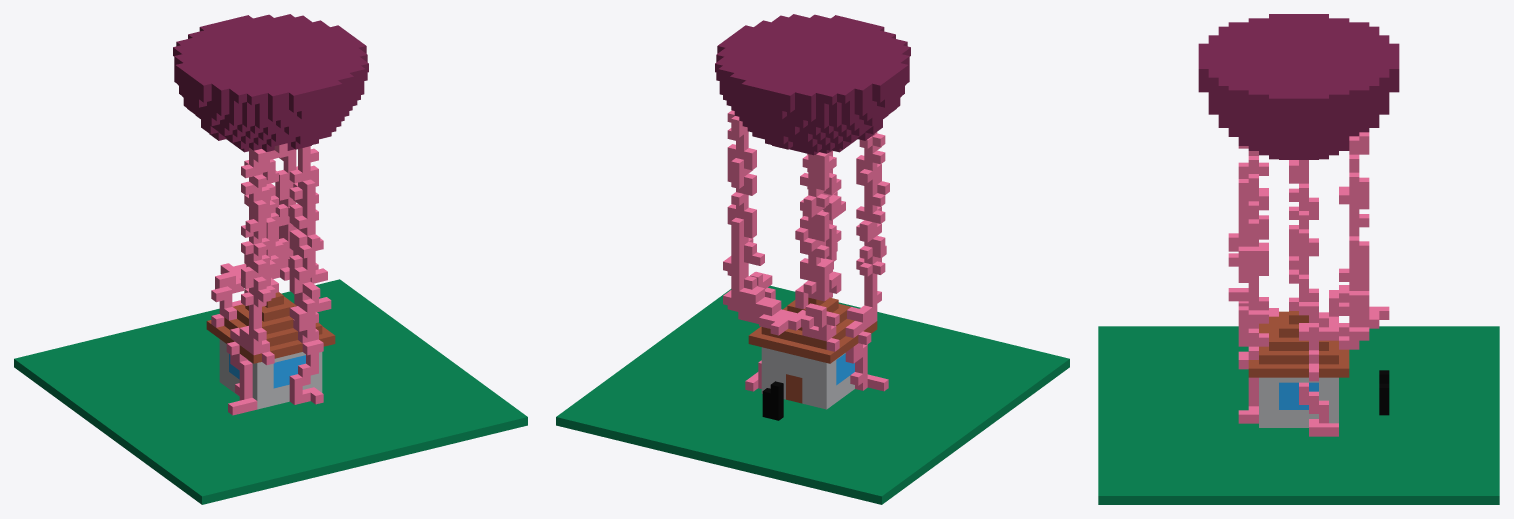
The model's file is OctoHouse.obj.
3 renders of one model, left to right at view 1: azimuth 30°, elevation 25°; view 2: azimuth 150°, elevation 25°; view 3: azimuth 270°, elevation 25°, orthographic. The views are drawn at different scales.
Bounding box in the file's own units: 40 × 40 × 40.
Materials: 1 (1 with a texture image).
